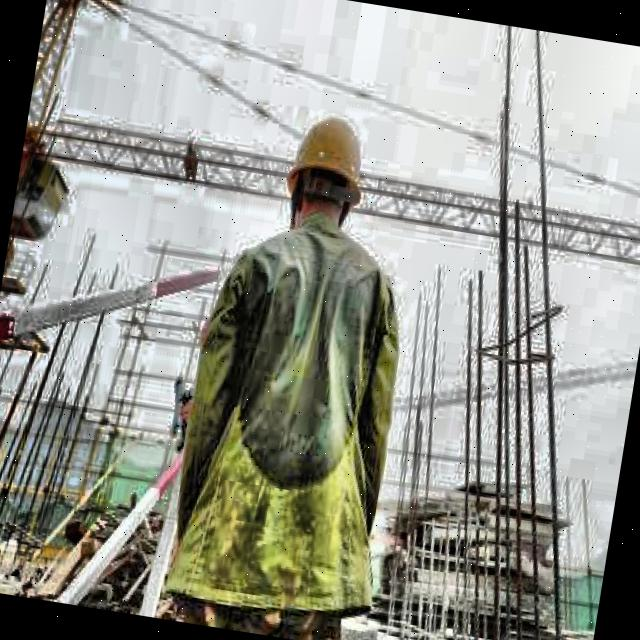helmet: (272, 100, 380, 254)
